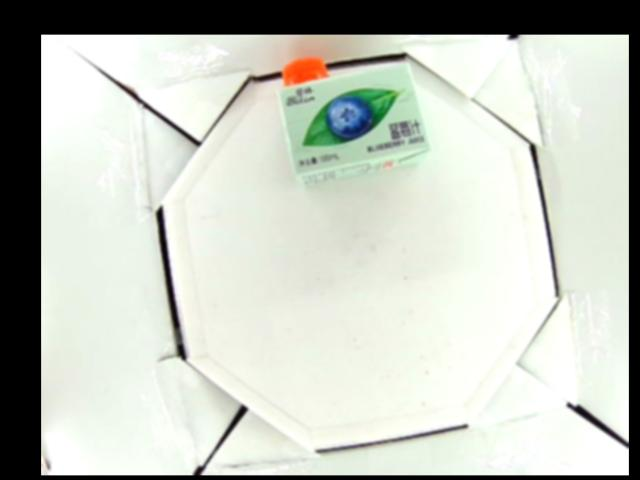Bottle: (275, 46, 433, 187)
